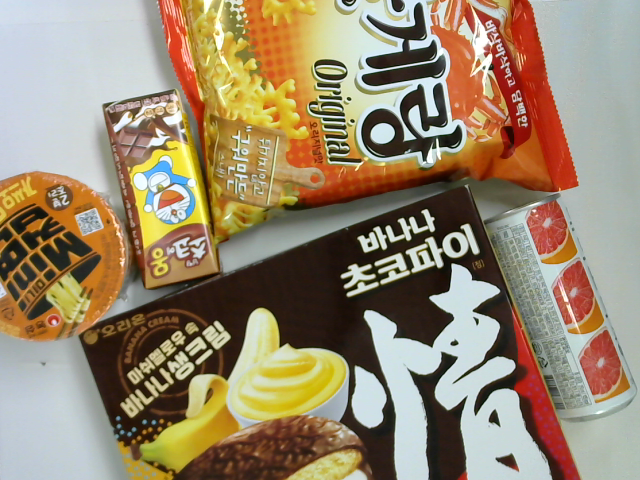Choco_E_Mong: (101, 88, 224, 290)
Choco_Pie_Banana: (79, 185, 583, 480)
Crabrang: (156, 1, 580, 251)
Demisoda_Grapefruit_Can_250ml: (483, 194, 637, 425)
Udongmini: (1, 172, 133, 344)
